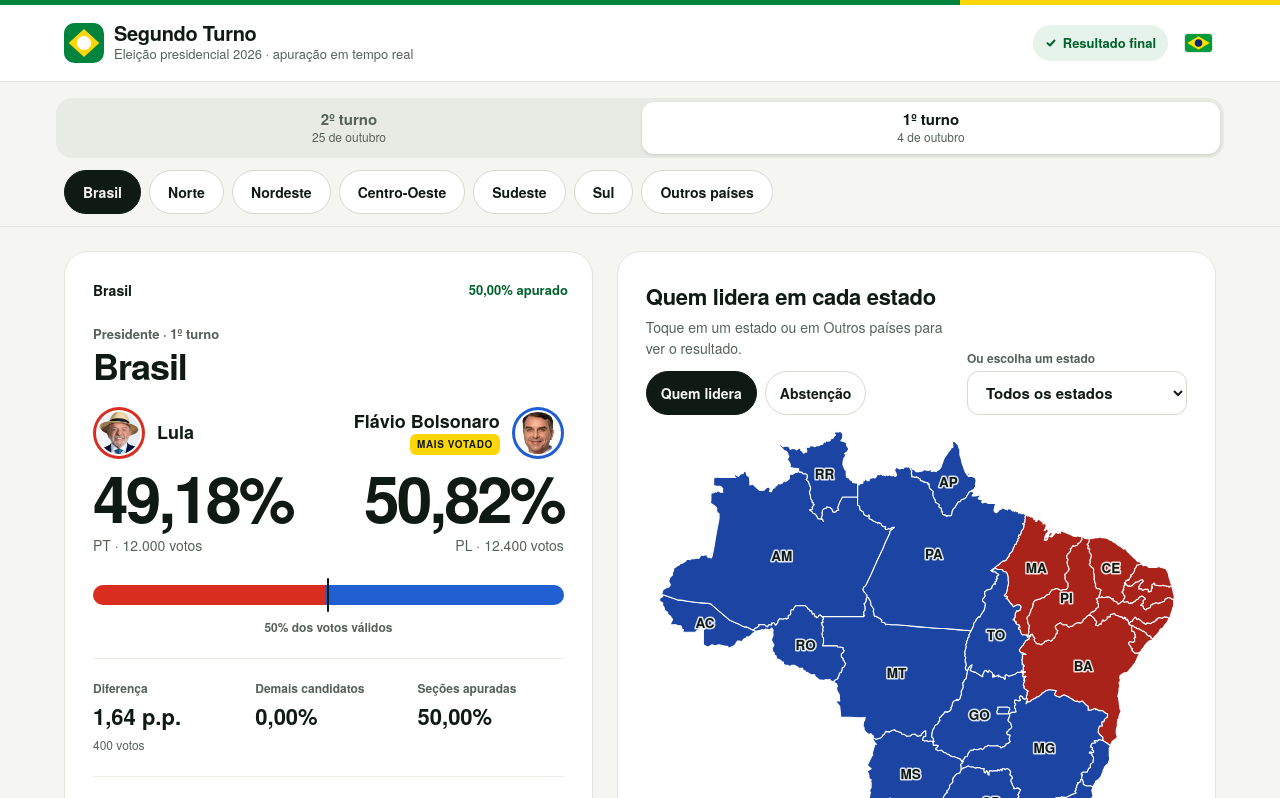
App rounds › switches to the runoff tab and keeps it in the URL
Click the tab "2º turno 25 de outubro".
click(349, 128)  # box x1=60 y1=102 x2=638 y2=154
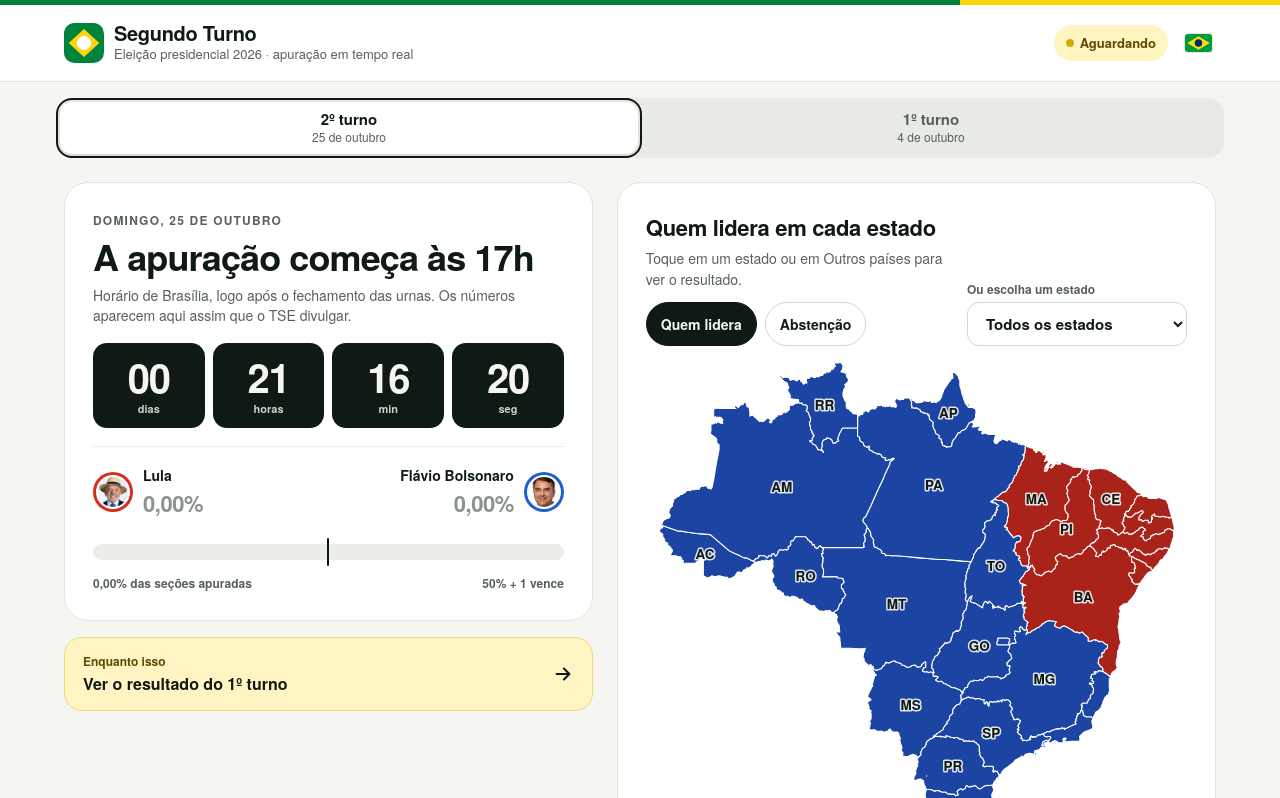
Result: the heading "A apuração começa às 17h" is shown at x1=93 y1=237 x2=564 y2=277
Result: the text "Aguardando" is shown at x1=1054 y1=25 x2=1168 y2=61
